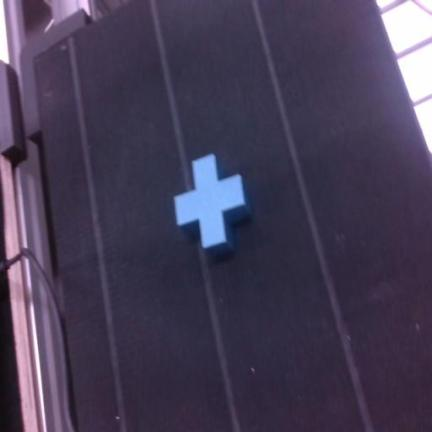cross: (174, 155, 249, 253)
